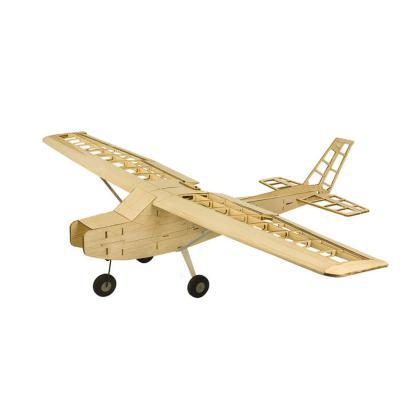CIV_Plane: (38, 125, 393, 308)
